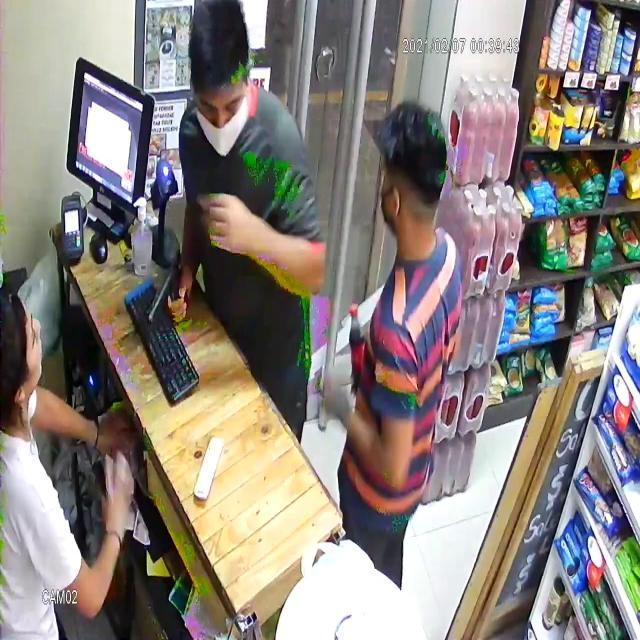pistol: (141, 252, 197, 334)
